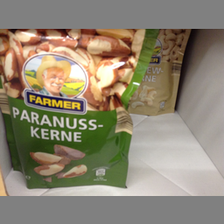nuts: (1, 30, 150, 189)
